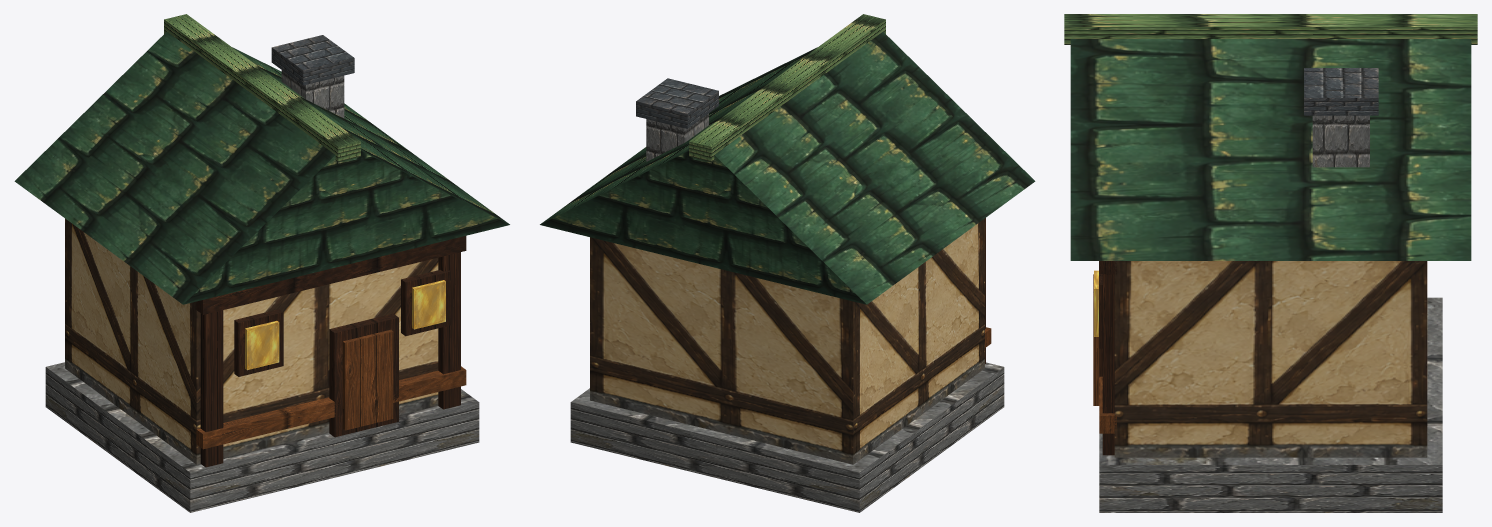
Rendered from House.fbx.
The picture shows the model from 3 angles, left to right: view 1: azimuth 30°, elevation 25°; view 2: azimuth 150°, elevation 25°; view 3: azimuth 270°, elevation 25°; orthographic projection. The views are drawn at different scales.
Parts seen in each view (by area): view 1: House; view 2: House; view 3: House.
Part boxes in pixels (box(x1,y1,x2,y2)): House: box(14, 14, 509, 512); House: box(540, 14, 1035, 512); House: box(1064, 14, 1477, 512).
Bounding box in the file's own units: 102 × 103 × 94.
